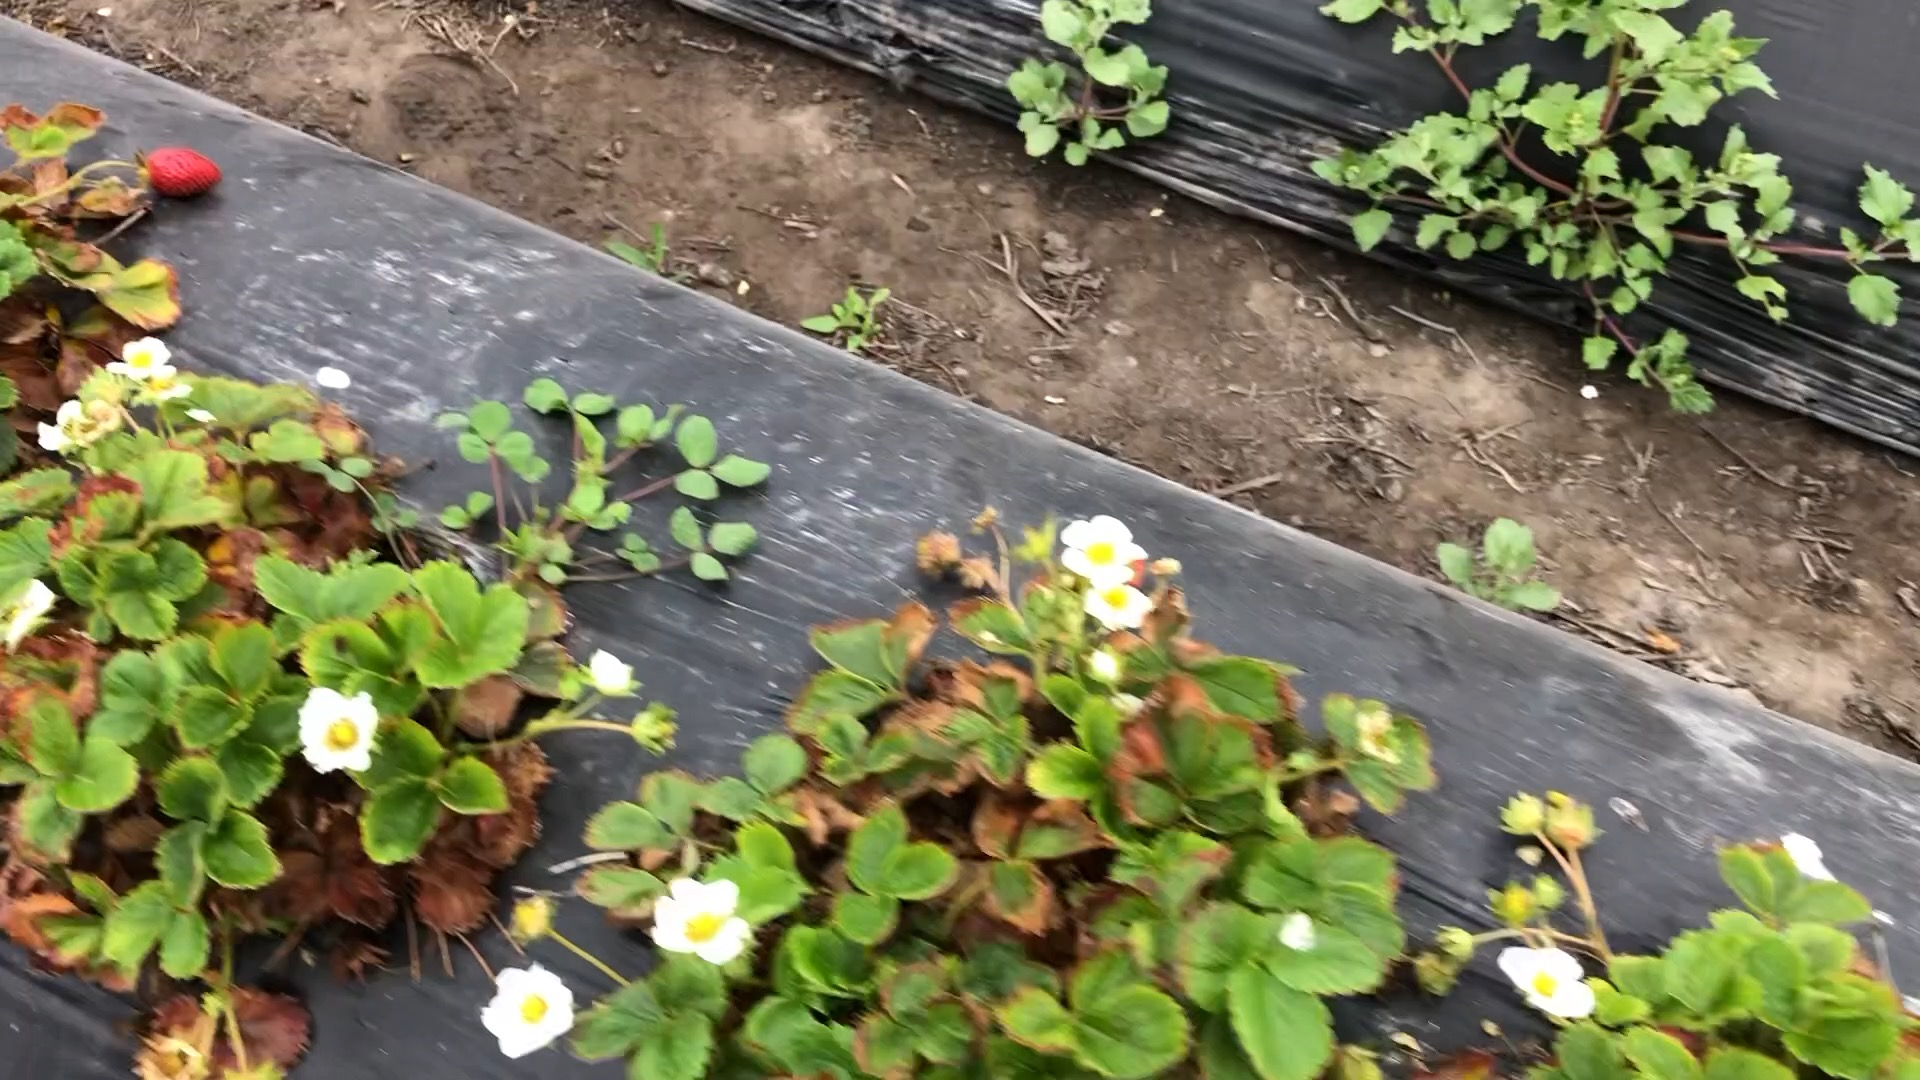ripe_strawberry: (128, 144, 225, 204)
